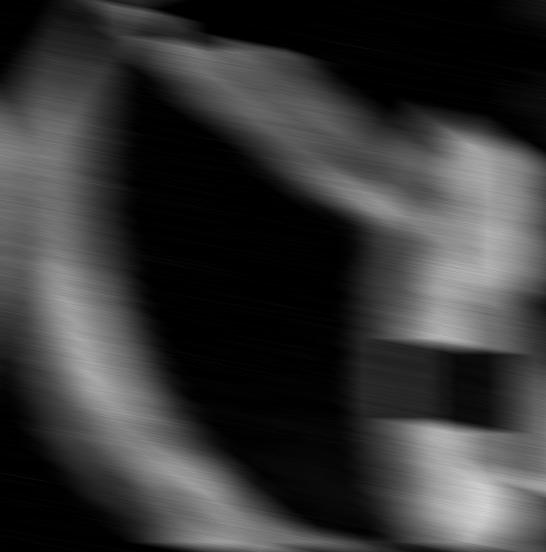Airbag: (0, 0, 546, 552), (523, 0, 546, 552), (0, 548, 545, 552), (523, 548, 546, 552)
